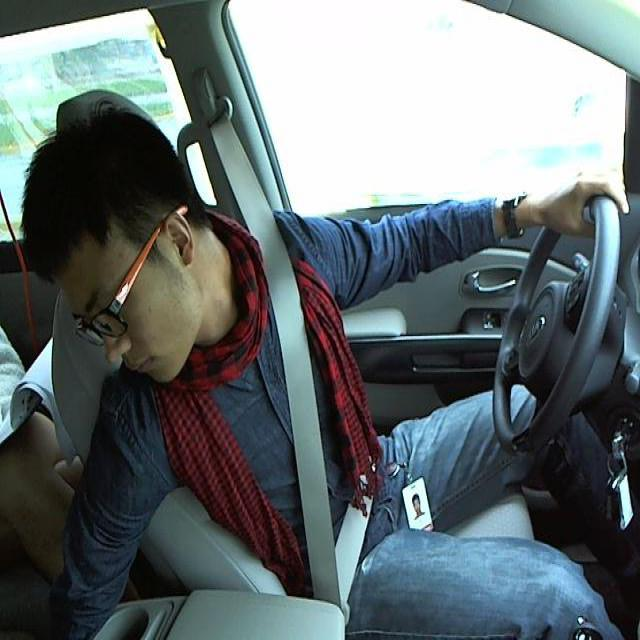seatbelt: (244, 232, 387, 604)
